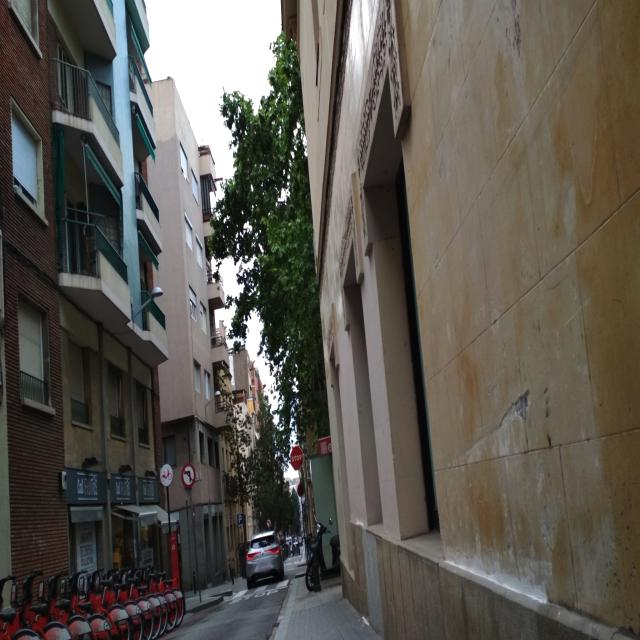bike: (129, 567, 165, 640), (163, 573, 185, 629)
car: (245, 529, 285, 589)
